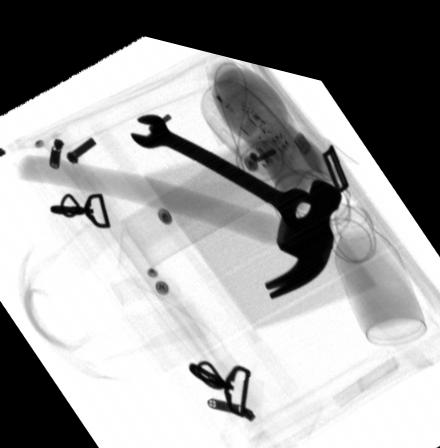Hammer: (16, 153, 341, 284)
Wrench: (129, 105, 319, 214)
